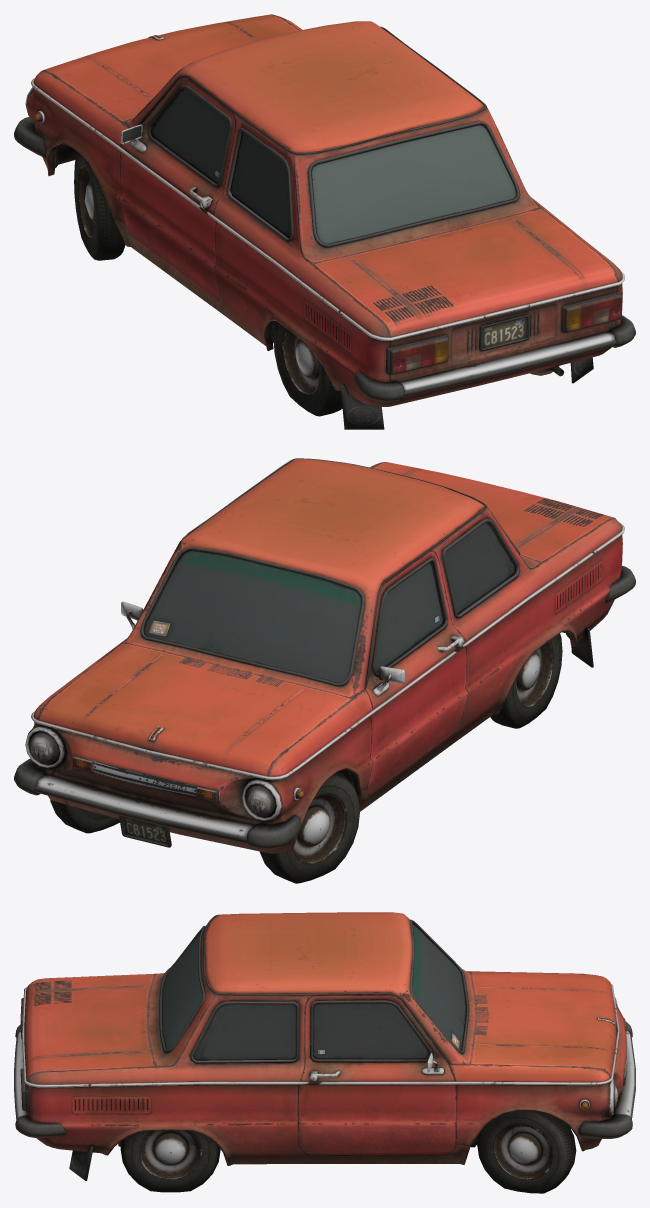
Rendered from ZAZ.fbx.
3 renders of one model, top to bottom at view 1: azimuth 30°, elevation 25°; view 2: azimuth 150°, elevation 25°; view 3: azimuth 270°, elevation 25°, orthographic. The views are drawn at different scales.
Parts seen in each view (by area): view 1: zaz, tires, chassis; view 2: zaz, tires; view 3: zaz, tires.
Part boxes in pixels (x1,y1,x2,y2): zaz: (14,14,635,429); tires: (74,151,342,416); chassis: (53,144,564,376); zaz: (14,458,635,853); tires: (50,633,562,883); zaz: (14,912,635,1180); tires: (120,1110,576,1193).
Bounding box in the file's own units: 77.73 × 63.93 × 178.
